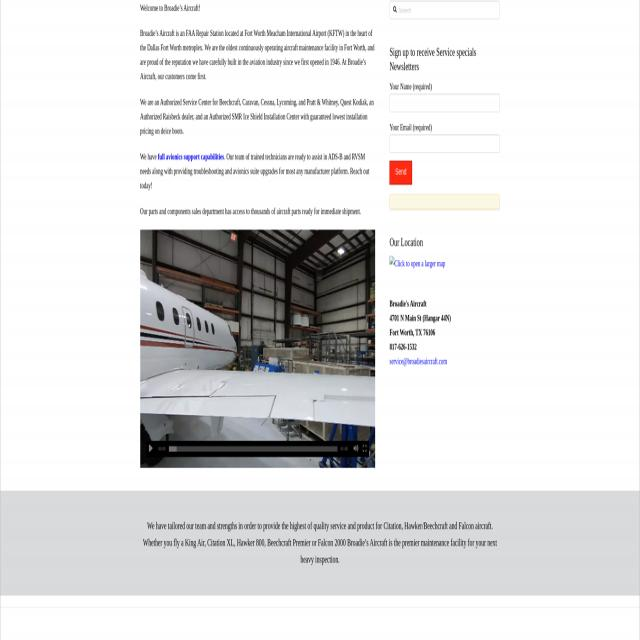button: (140, 230, 376, 468), (390, 161, 412, 184), (360, 441, 370, 457), (146, 441, 155, 457), (352, 441, 361, 457)
field: (390, 0, 500, 18), (390, 94, 500, 112), (390, 134, 500, 152)
